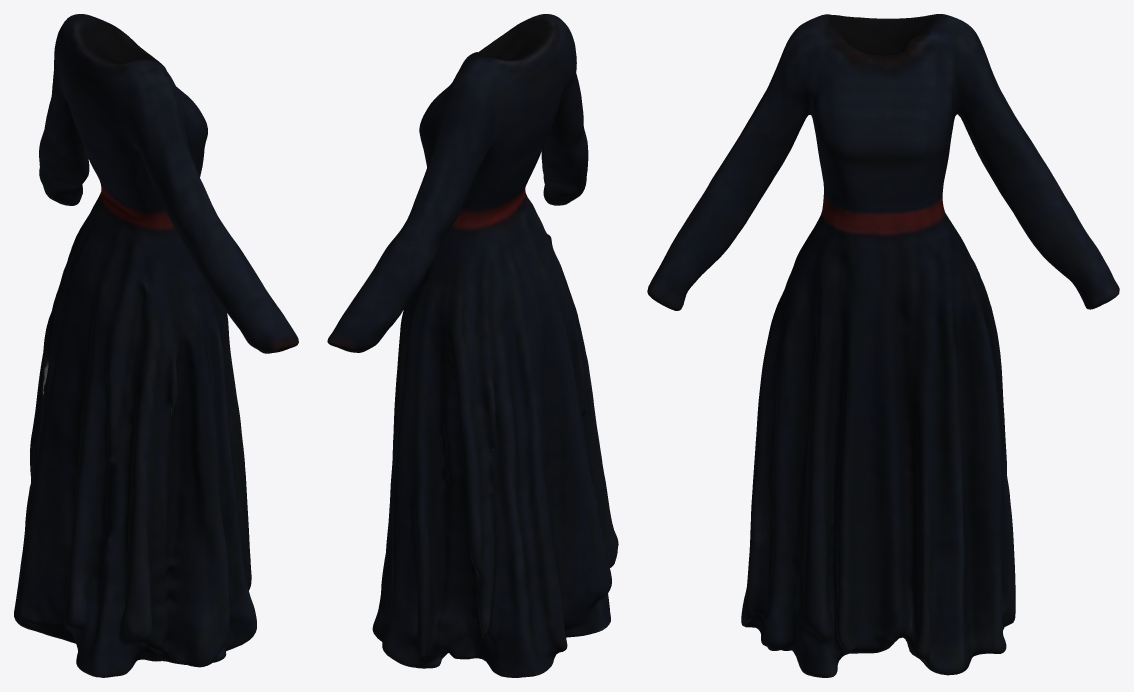
File: 5479a347574a_0d84a662130f_nice_dress__3d_asse.glb
3 renders of one model, left to right at view 1: azimuth 30°, elevation 25°; view 2: azimuth 150°, elevation 25°; view 3: azimuth 270°, elevation 25°, orthographic. The views are drawn at different scales.
Parts seen in each view (by area): view 1: high_poly; view 2: high_poly; view 3: high_poly.
Part boxes in pixels (x1=…): high_poly: x1=14, y1=14, x2=298, y2=677; high_poly: x1=327, y1=14, x2=618, y2=677; high_poly: x1=647, y1=14, x2=1119, y2=677.
Bounding box in the file's own units: 0.3148 × 1 × 0.6971.
Materials: 1 (1 with a texture image).
